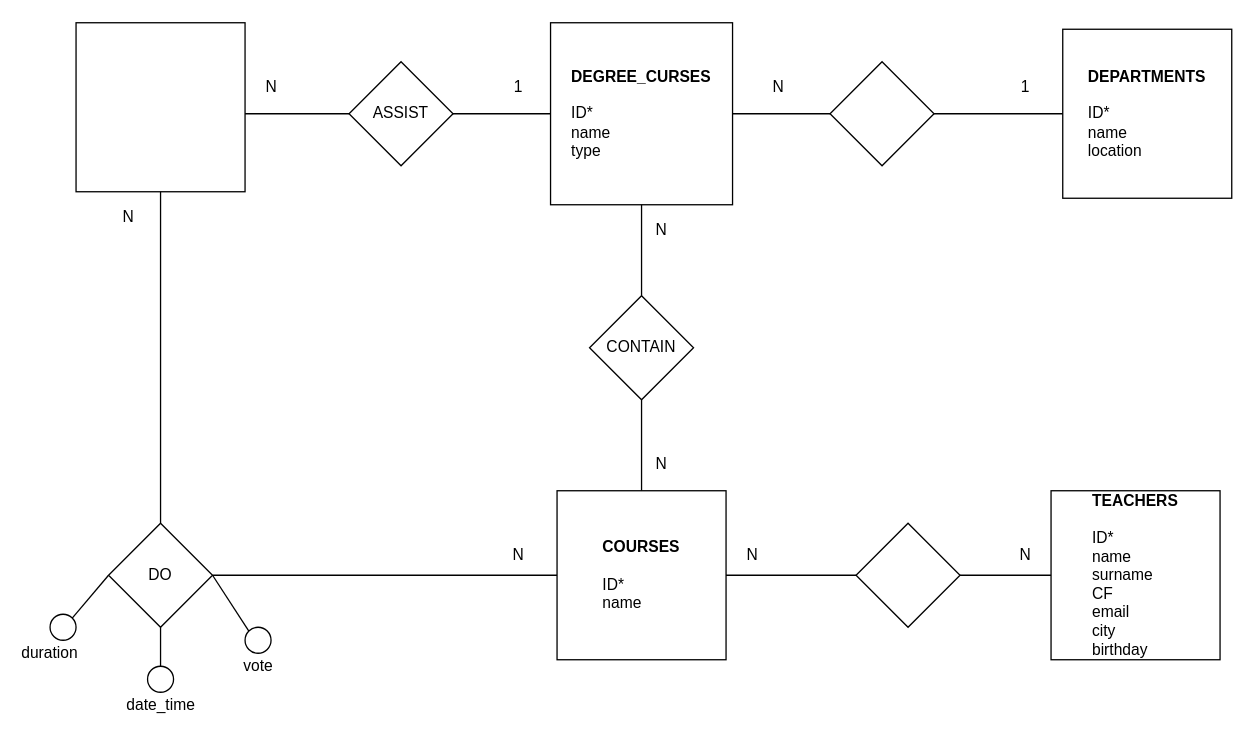
Image size: 1255x741. Some labels were removed from this diagram. Each missing label, with the box of its shape:
OFFERTS: (829, 60, 934, 166)
STUDENTS ID* name surname CF email city birthday: (75, 21, 245, 192)
TAUGHT BY: (855, 522, 960, 627)
